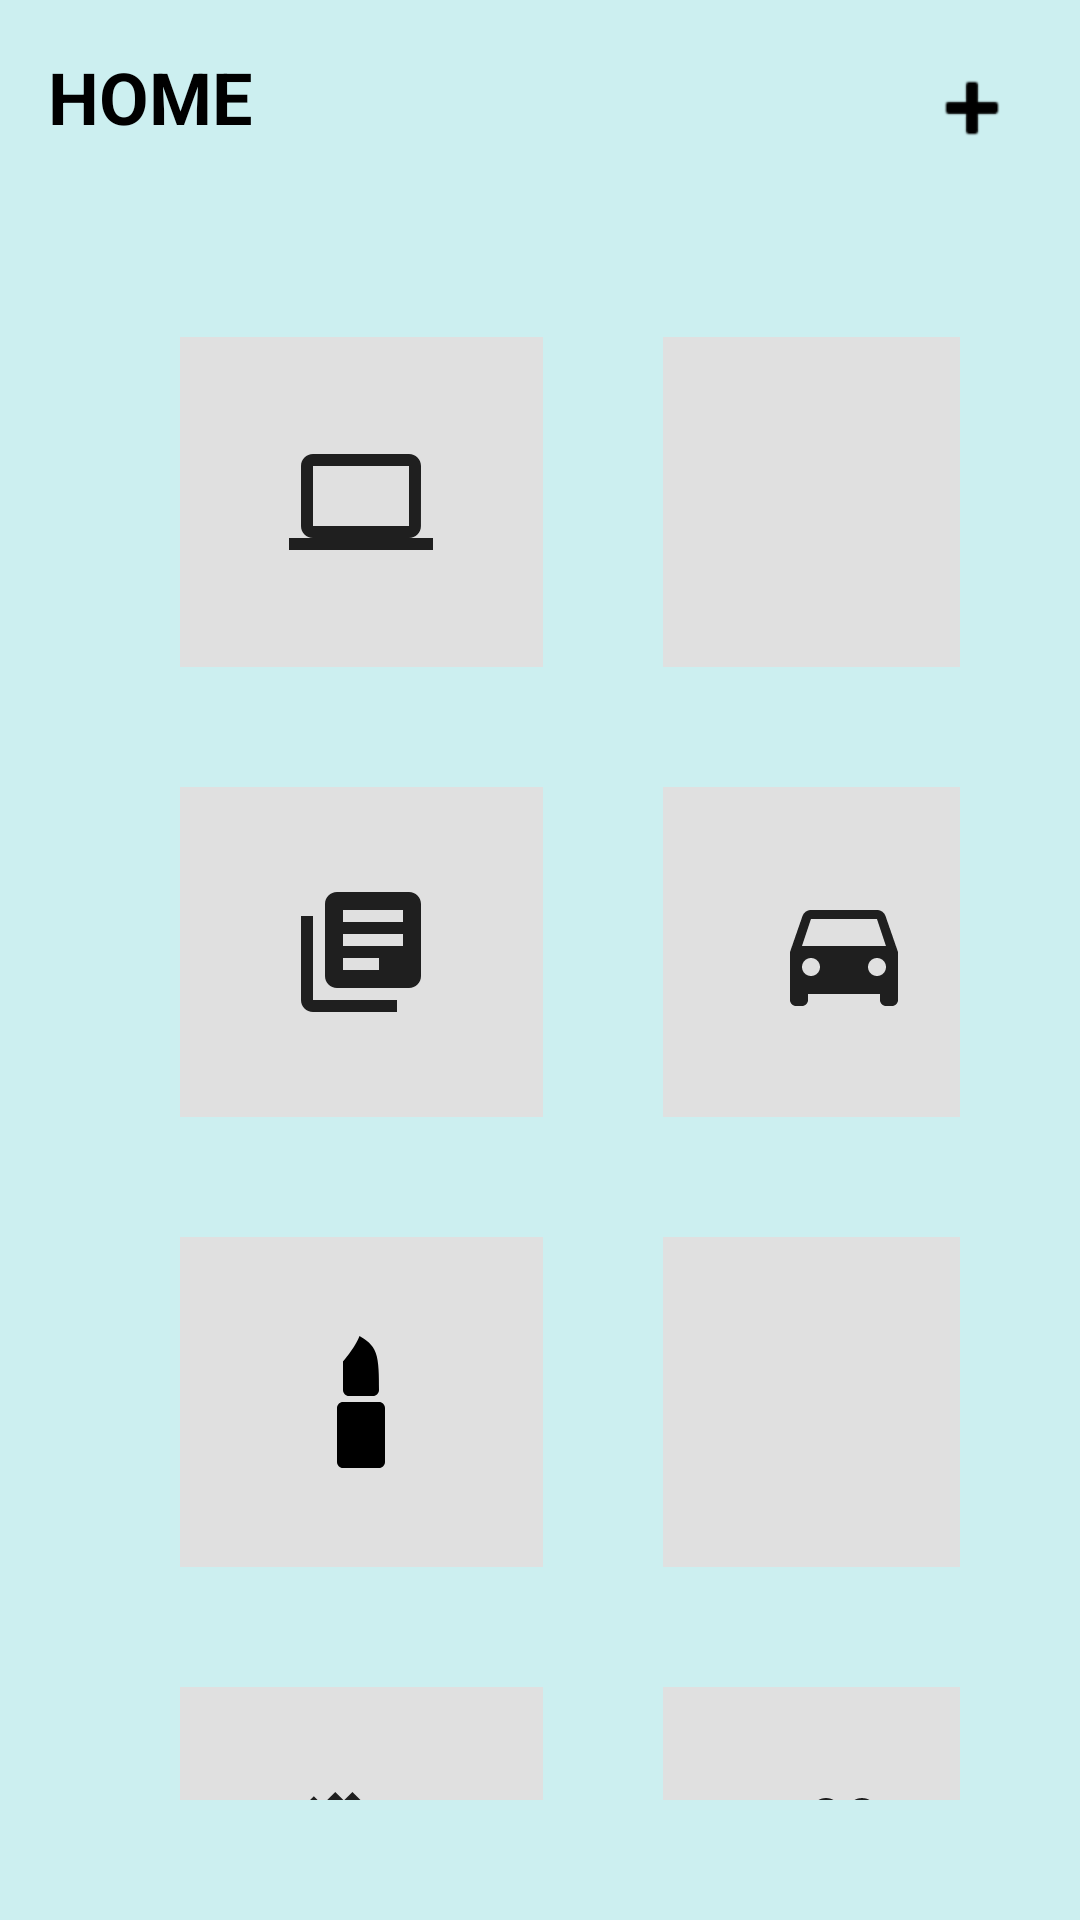

Icon bounding boxes for this 1080px×1920px phone screenshot, format rect(x1, y1, x2, y2):
Aggiungi: rect(945, 81, 999, 135)
Computer: rect(289, 454, 433, 550)
Macchina: rect(790, 910, 898, 1006)
Makeup: rect(337, 1336, 385, 1468)
